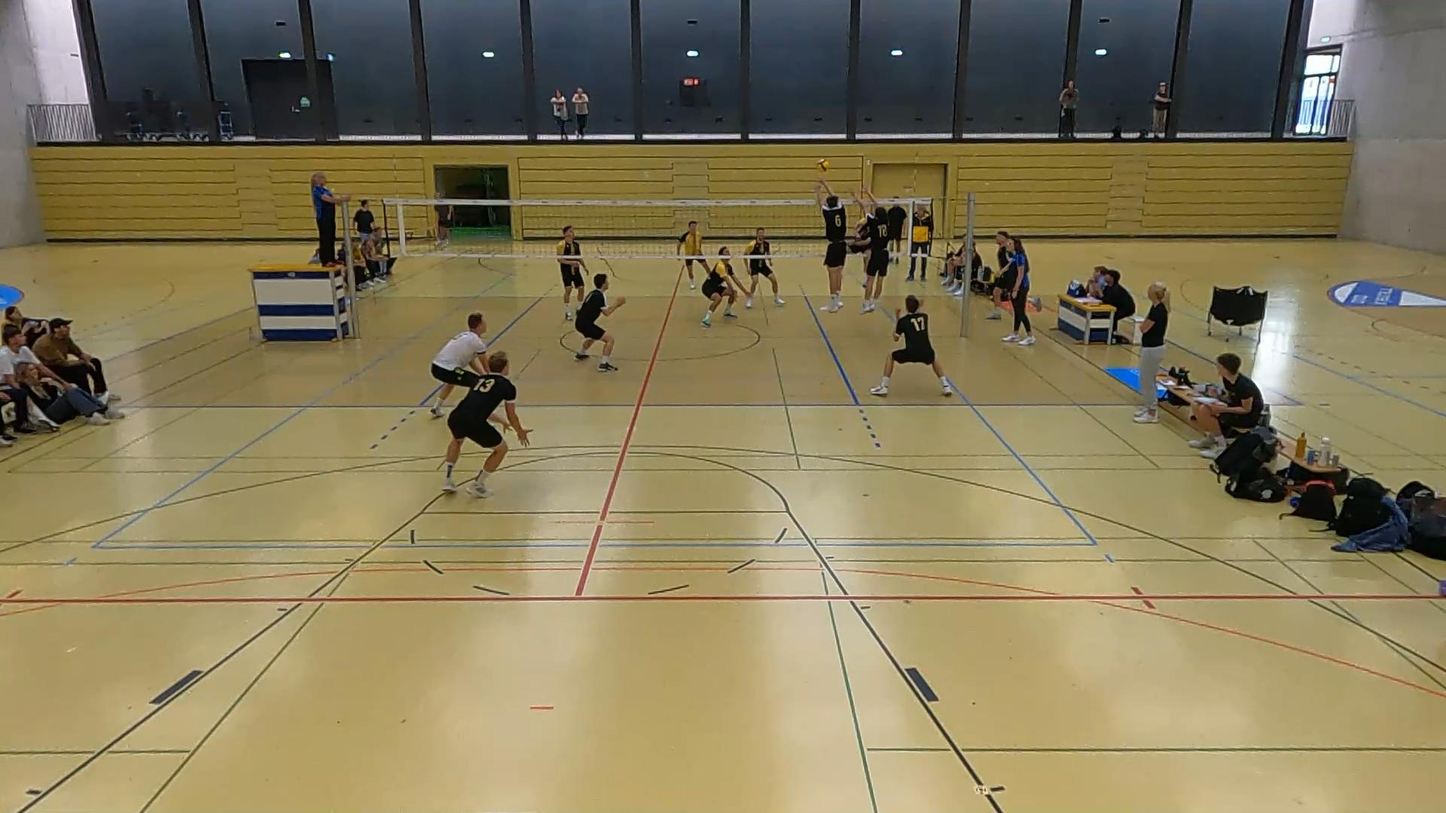attacco: (850, 192, 874, 295)
muro: (843, 180, 894, 312), (808, 174, 853, 318)
